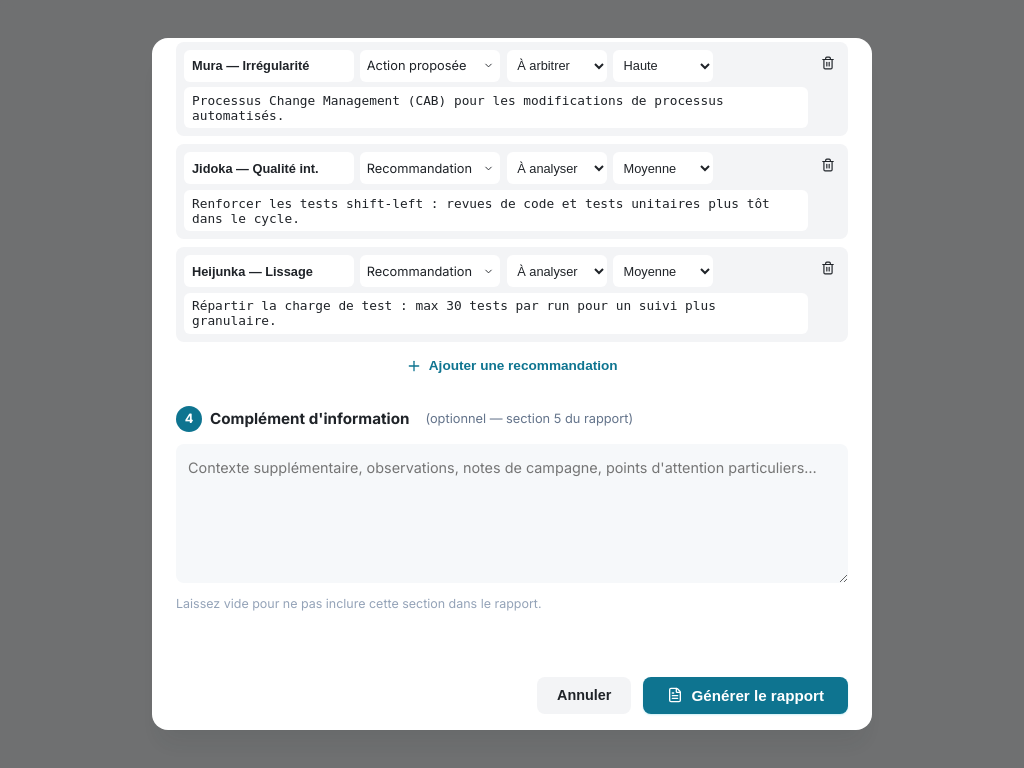
it: ReportGeneratorModal › handles generation error
(page scrolled)
Click the button "Générer le rapport": (746, 695) [644,677,848,714]
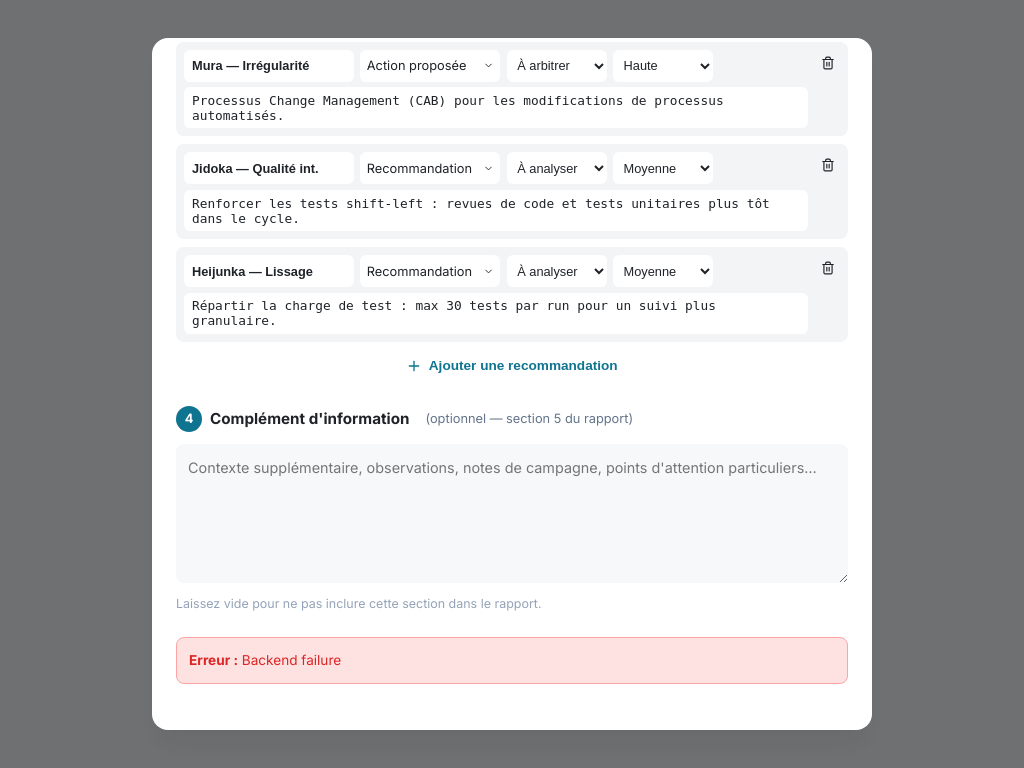
Result: the text "Erreur : Backend failure" is shown at [176,637,848,684]
